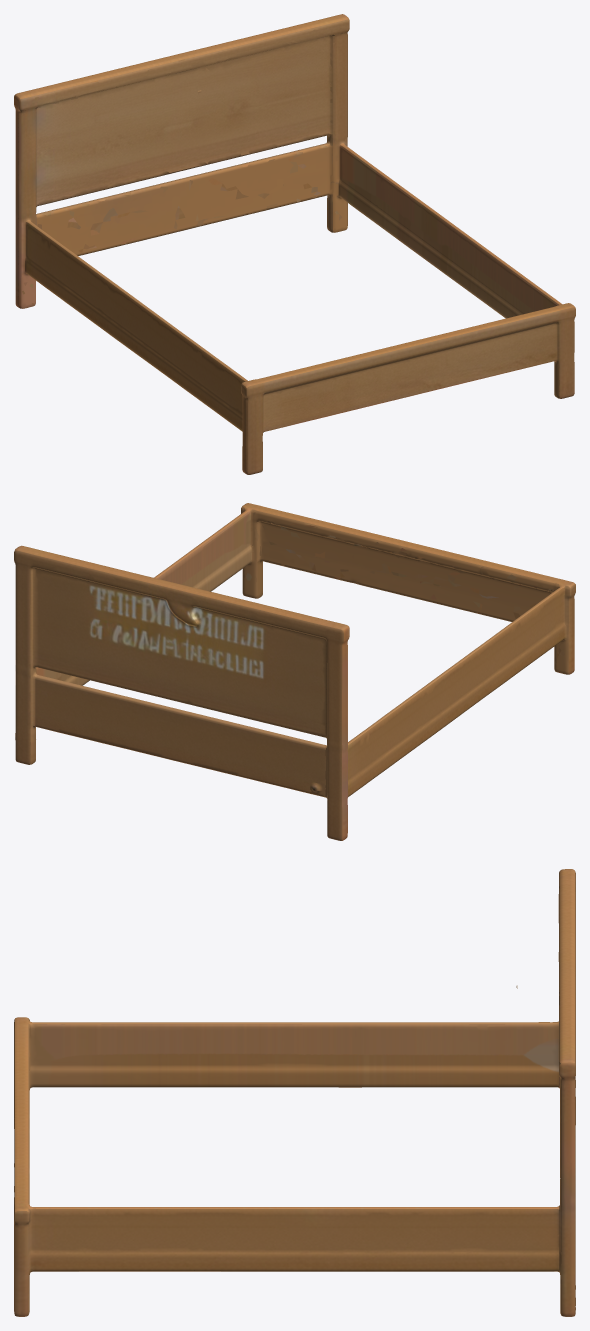
The model's file is bed__bed#2.glb.
3 views of the same model, one above another, from view 1: azimuth 30°, elevation 25°; view 2: azimuth 150°, elevation 25°; view 3: azimuth 270°, elevation 25° (orthographic). The views are drawn at different scales.
Visible parts, largest first — view 1: tmp3auytya8.ply; view 2: tmp3auytya8.ply; view 3: tmp3auytya8.ply.
Boxes of the visible parts, left/top/right/bottom form: tmp3auytya8.ply: left=14, top=14, right=575, bottom=474; tmp3auytya8.ply: left=14, top=503, right=575, bottom=840; tmp3auytya8.ply: left=14, top=869, right=575, bottom=1316.
Bounding box in the file's own units: 1.63 × 1 × 1.99.
1 material, 1 textured.
